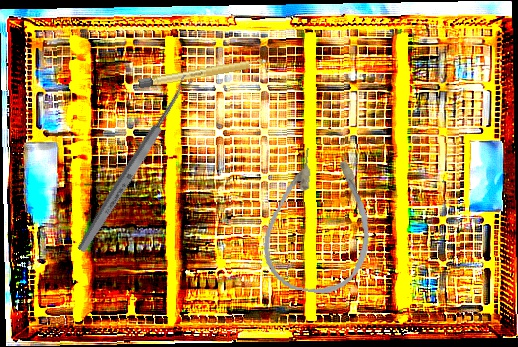Cannula: (257, 143, 383, 300)
Scalpel Handle: (137, 56, 270, 90)
Surgical Spoon: (75, 73, 195, 255)
